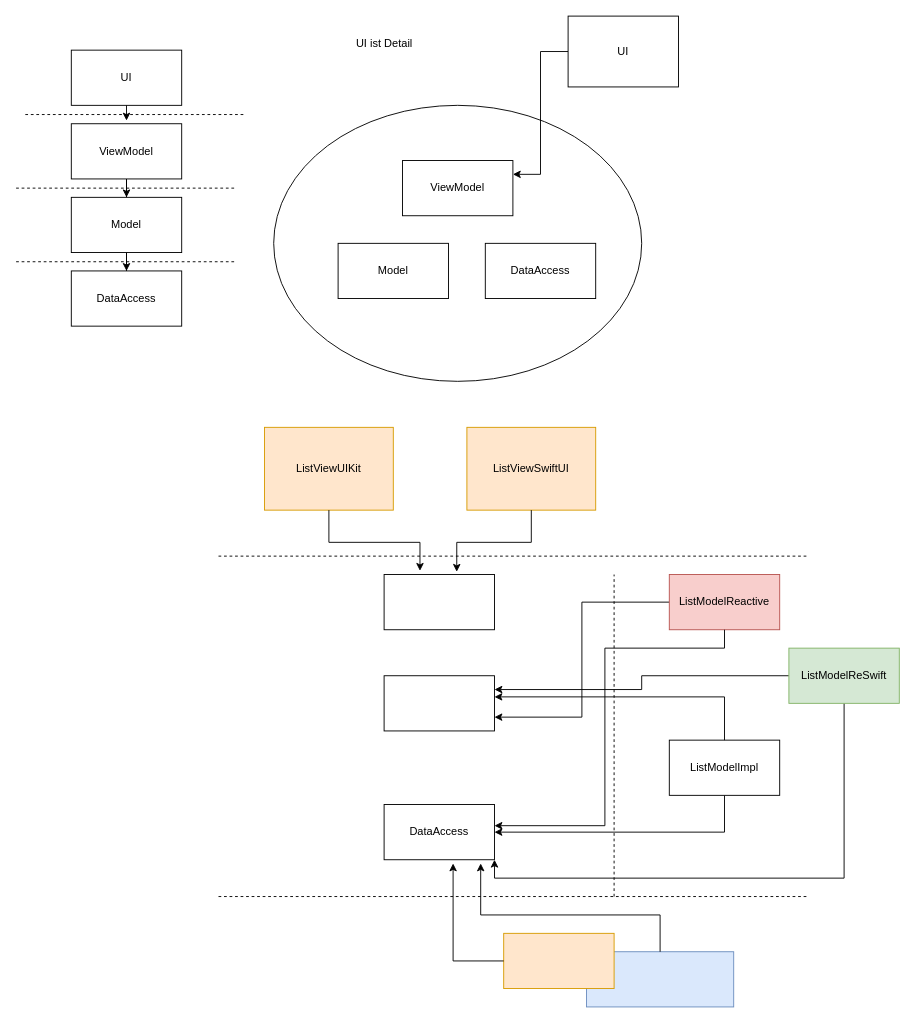
The diagram is 915 pixels wide and 1023 high, and some of its shapes have lost their labels. Here are the shapes that lost their labels. From the top down, the centre of each, then its label:
[438,602]: ListViewModel
[438,703]: ListModel
[558,960]: DataAccessCoreData
[660,979]: DataAccessCoreDataTest
